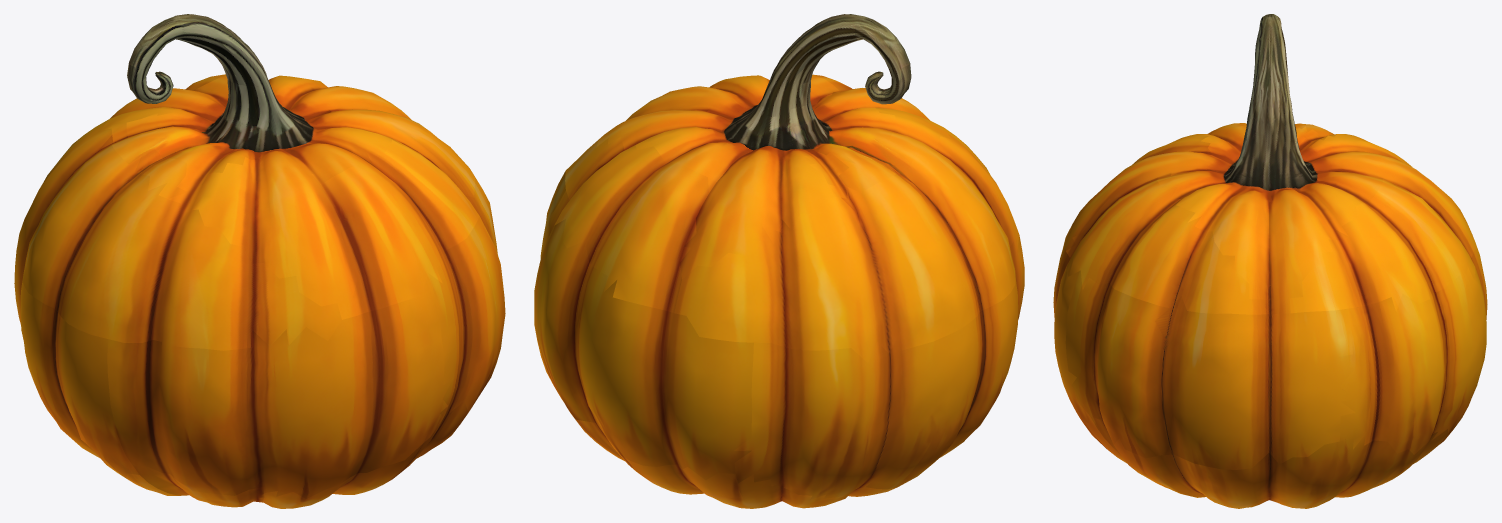
File: pumpkin.glb
3 views of the same model, side by side, from view 1: azimuth 30°, elevation 25°; view 2: azimuth 150°, elevation 25°; view 3: azimuth 270°, elevation 25° (orthographic). The views are drawn at different scales.
Bounding box in the file's own units: 1.8 × 1.91 × 1.8.
1 material, 1 textured.
